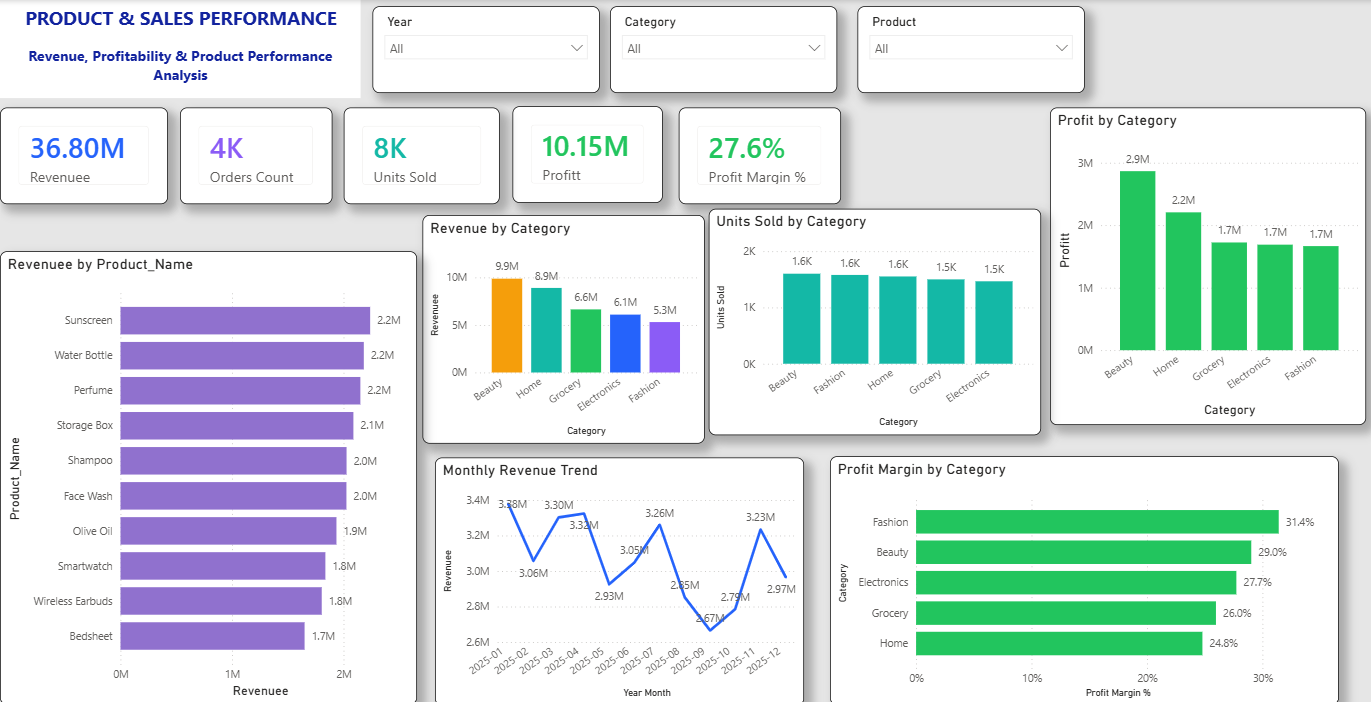

Layout of this report page (visuals, bound fields, positions):
{"tool":"powerbi","page":{"name":"📦Product & Sales","canvas":[1560,800],"ordinal":2},"visuals":[{"type":"textbox","box":[0,0,408.9,111.1],"z":0},{"type":"slicer","fields":{"Values":["DateTable.Year"]},"box":[422.6,6.9,258,98.8],"z":1000},{"type":"slicer","fields":{"Values":["Products.Category"]},"box":[691.6,6.9,258,98.8],"z":2000},{"type":"slicer","fields":{"Values":["Products.Product_Name"]},"box":[971.5,6.9,258,98.8],"z":3000},{"type":"cardVisual","fields":{"Data":["Orders.Revenuee"]},"box":[0,122.1,190.7,109.8],"z":4000},{"type":"cardVisual","fields":{"Data":["Orders.Profitt"]},"box":[581.5,120.6,170.2,109.8],"z":5000},{"type":"cardVisual","fields":{"Data":["Orders.Orders Count"]},"box":[204.5,122.1,172.9,109.8],"z":6000},{"type":"cardVisual","fields":{"Data":["Orders.Units Sold"]},"box":[389.7,121.9,177,109.8],"z":7000},{"type":"cardVisual","fields":{"Data":["Orders.Profit Margin %"]},"box":[769.7,121.9,183.9,109.8],"z":8000},{"type":"clusteredColumnChart","title":"Revenue by Category","fields":{"Category":["Products.Category"],"Y":["Orders.Revenuee"]},"box":[479,243.8,320.3,259.3],"z":9000},{"type":"clusteredColumnChart","title":"Profit by Category","fields":{"Category":["Products.Category"],"Y":["Orders.Profitt"]},"box":[1190.4,121.9,358.5,360],"z":10000},{"type":"barChart","fields":{"Category":["Products.Product_Name"],"Y":["Orders.Revenuee"]},"box":[0,284.8,472.8,515.1],"z":11000},{"type":"clusteredColumnChart","fields":{"Category":["Products.Category"],"Y":["Orders.Units Sold"]},"box":[803.5,236.7,377,256.5],"z":12000},{"type":"barChart","title":"Profit Margin by Category","fields":{"Category":["Products.Category"],"Y":["Orders.Profit Margin %"]},"box":[941,517.3,576.9,283.2],"z":13000},{"type":"lineChart","title":"Monthly Revenue Trend","fields":{"Category":["DateTable.Year Month"],"Y":["Orders.Revenuee"]},"box":[493.2,518.7,418.3,282.1],"z":14000}]}

Visuals, with their boxes in screenshot pixels (x1, y1, x2, y2), scaled from the page's 1560x800 canvas onto the 1371x702 screenshot:
textbox: (x1=0, y1=0, x2=359, y2=97)
slicer - DateTable.Year: (x1=371, y1=6, x2=598, y2=93)
slicer - Products.Category: (x1=608, y1=6, x2=835, y2=93)
slicer - Products.Product_Name: (x1=854, y1=6, x2=1081, y2=93)
cardVisual - Orders.Revenuee: (x1=0, y1=107, x2=168, y2=203)
cardVisual - Orders.Profitt: (x1=511, y1=106, x2=661, y2=202)
cardVisual - Orders.Orders Count: (x1=180, y1=107, x2=332, y2=203)
cardVisual - Orders.Units Sold: (x1=342, y1=107, x2=498, y2=203)
cardVisual - Orders.Profit Margin %: (x1=676, y1=107, x2=838, y2=203)
"Revenue by Category" clusteredColumnChart: (x1=421, y1=214, x2=702, y2=441)
"Profit by Category" clusteredColumnChart: (x1=1046, y1=107, x2=1361, y2=423)
barChart - Products.Product_Name x Orders.Revenuee: (x1=0, y1=250, x2=416, y2=701)
clusteredColumnChart - Products.Category x Orders.Units Sold: (x1=706, y1=208, x2=1037, y2=433)
"Profit Margin by Category" barChart: (x1=827, y1=454, x2=1334, y2=701)
"Monthly Revenue Trend" lineChart: (x1=433, y1=455, x2=801, y2=701)
